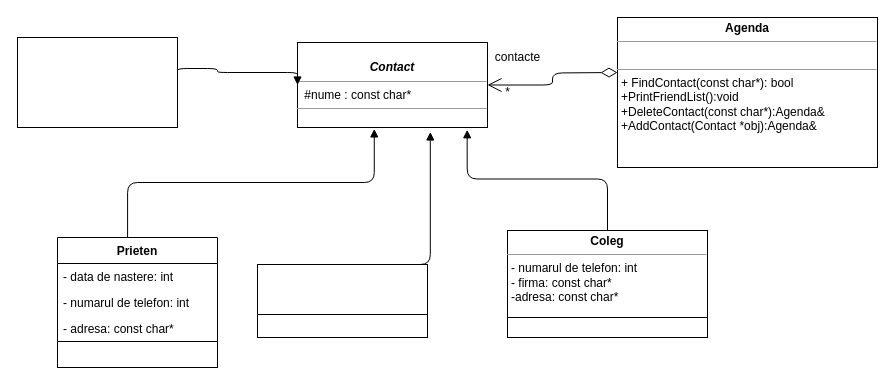
Image size: 895x385. Some labels were removed from this diagram. The shapes that lost their labels are listed below. From the top down, each one's centre as x and y in pixels, then its label:
At point 97,82: "Enumeration Prieten Cunoscut Coleg".
At point 342,289: "Cunoscut - numarul de telefont: int".
